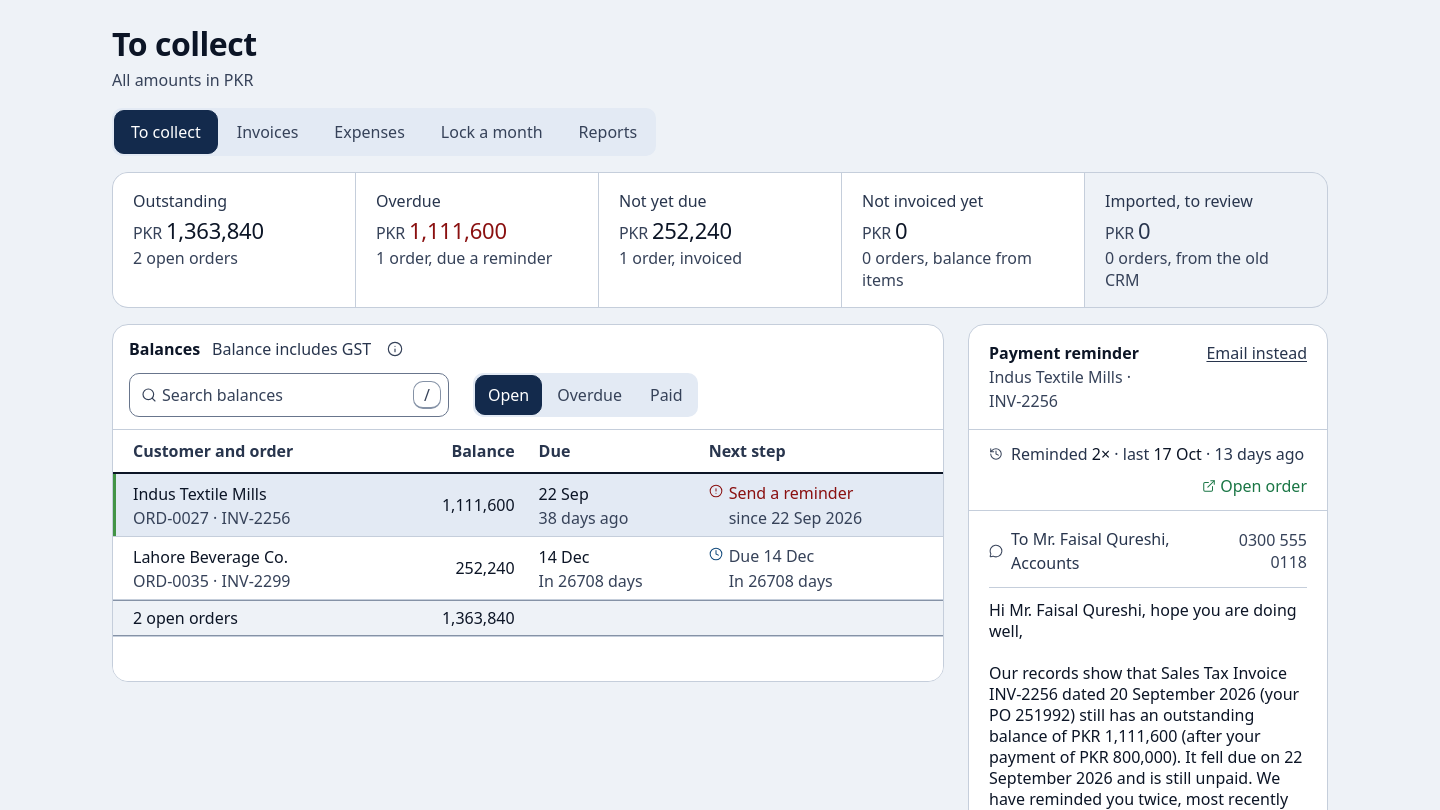
Test: the panel beside Receivables (M09) › opens on the first overdue order, and picking another row swaps the panel
Click the text "Lahore Beverage Co.".
click(210, 556)  # box x1=133 y1=546 x2=288 y2=568
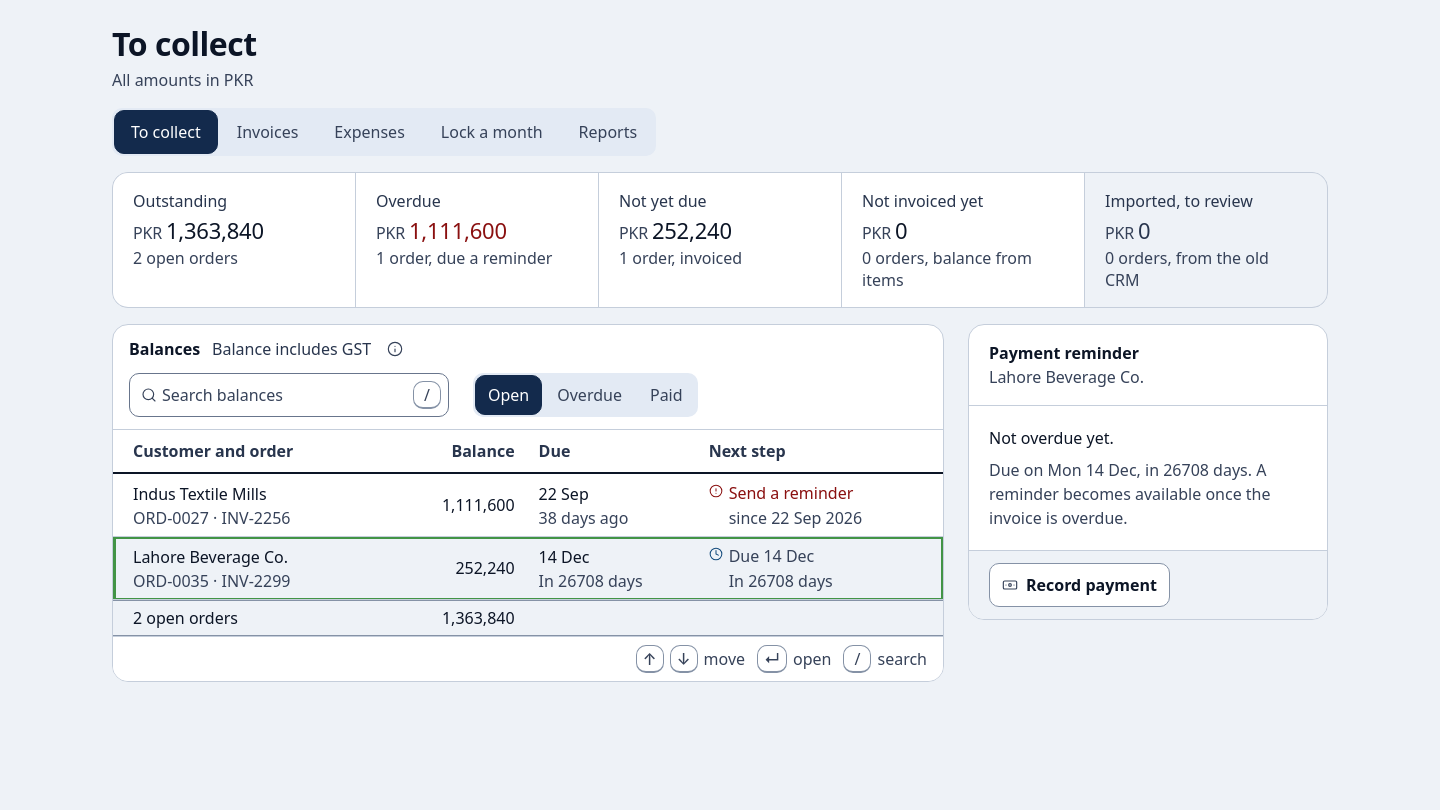
Result: the text "Not overdue yet." is shown at x1=989 y1=426 x2=1114 y2=450
